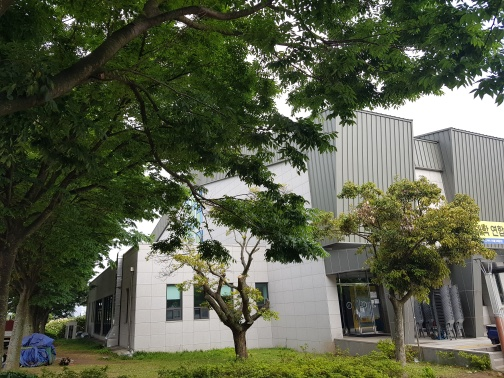Gym: (99, 103, 498, 366), (305, 115, 492, 249)
